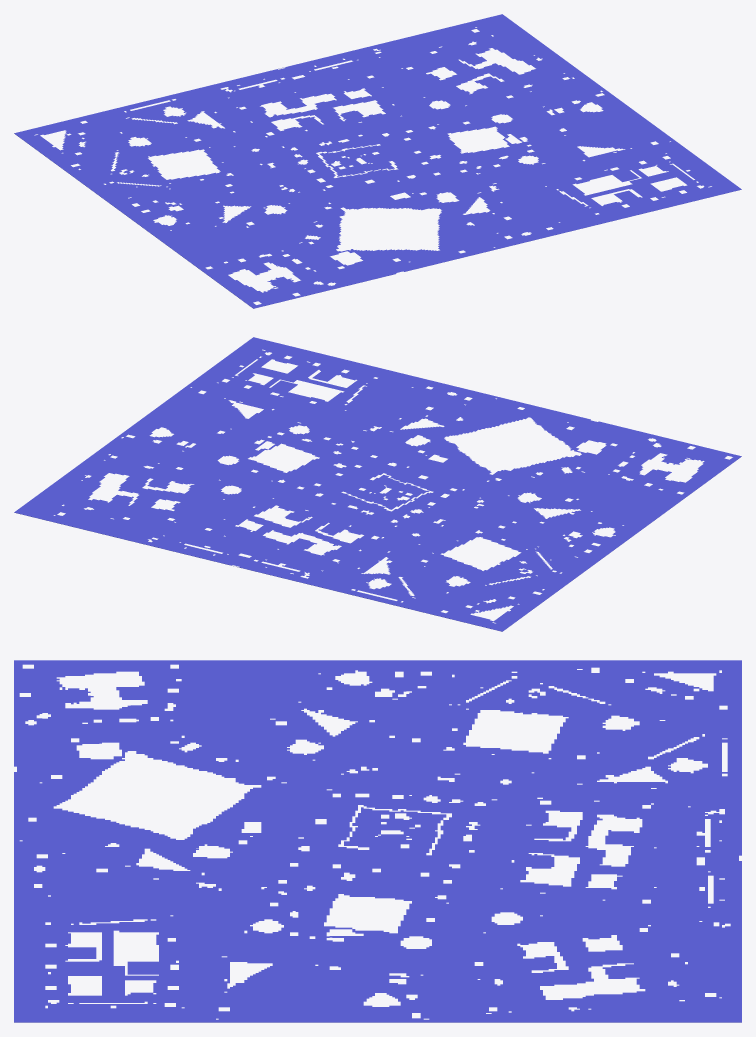
File: navmesh3 copy.glb
3 views of the same model, one above another, from view 1: azimuth 30°, elevation 25°; view 2: azimuth 150°, elevation 25°; view 3: azimuth 270°, elevation 25° (orthographic). The views are drawn at different scales.
Parts seen in each view (by area): view 1: Navmesh_Mesh; view 2: Navmesh_Mesh; view 3: Navmesh_Mesh.
Boxes of the visible parts, bbox=[...] form: Navmesh_Mesh: bbox=[14, 14, 741, 308]; Navmesh_Mesh: bbox=[14, 337, 741, 631]; Navmesh_Mesh: bbox=[14, 660, 741, 1022].
Size of the model in its own units: 19.96 by 0.008 by 16.95.
